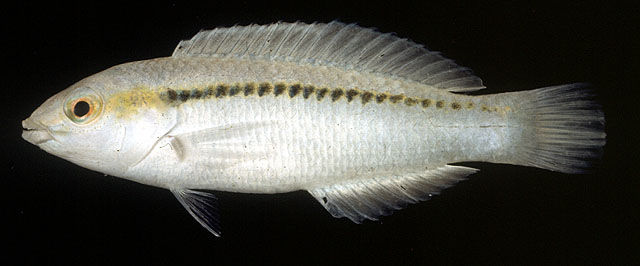fish: (22, 18, 609, 239)
